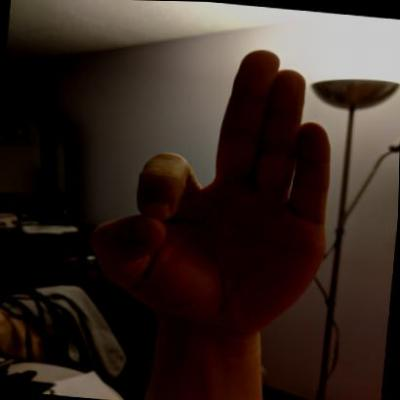hand: (81, 33, 345, 341)
